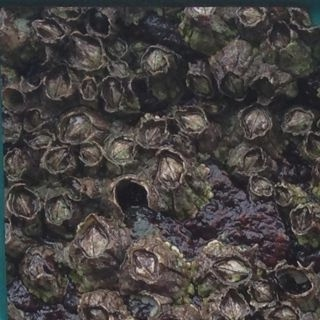Barnacle: (80, 220, 110, 260), (71, 33, 103, 70), (61, 113, 93, 145), (243, 106, 272, 140), (215, 257, 248, 286), (131, 248, 159, 280), (157, 152, 184, 185), (102, 76, 125, 112), (46, 195, 71, 227), (46, 67, 70, 99), (3, 149, 27, 179), (284, 109, 314, 133), (221, 292, 247, 319), (14, 187, 38, 216), (177, 111, 206, 135), (249, 279, 276, 304), (270, 20, 291, 51), (110, 138, 134, 165), (291, 205, 313, 233), (189, 73, 214, 97), (147, 46, 169, 73), (48, 147, 72, 171), (142, 121, 166, 145), (242, 147, 264, 173), (222, 71, 244, 96), (36, 20, 63, 40), (23, 108, 44, 131), (243, 1, 264, 23), (26, 134, 53, 150), (2, 119, 22, 140), (252, 175, 274, 194), (80, 145, 103, 163), (305, 133, 319, 162), (81, 75, 97, 98), (271, 306, 297, 319), (277, 184, 293, 205), (84, 307, 109, 319), (110, 38, 127, 55), (110, 61, 129, 76)
